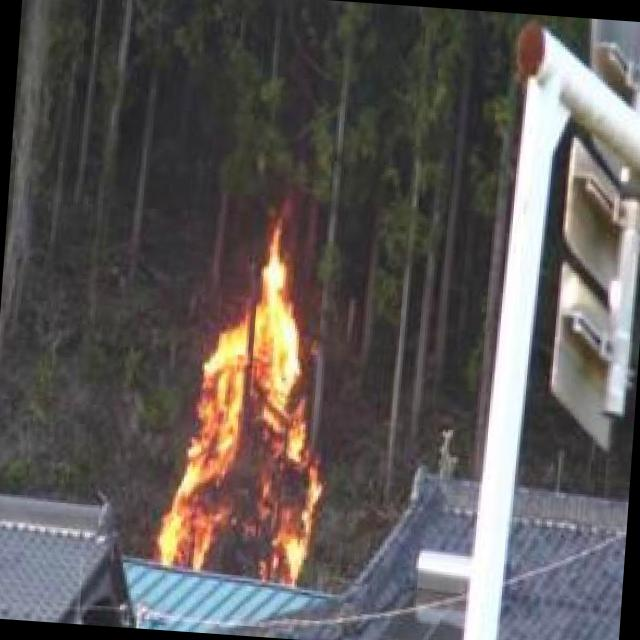Fire: (173, 258, 334, 583)
